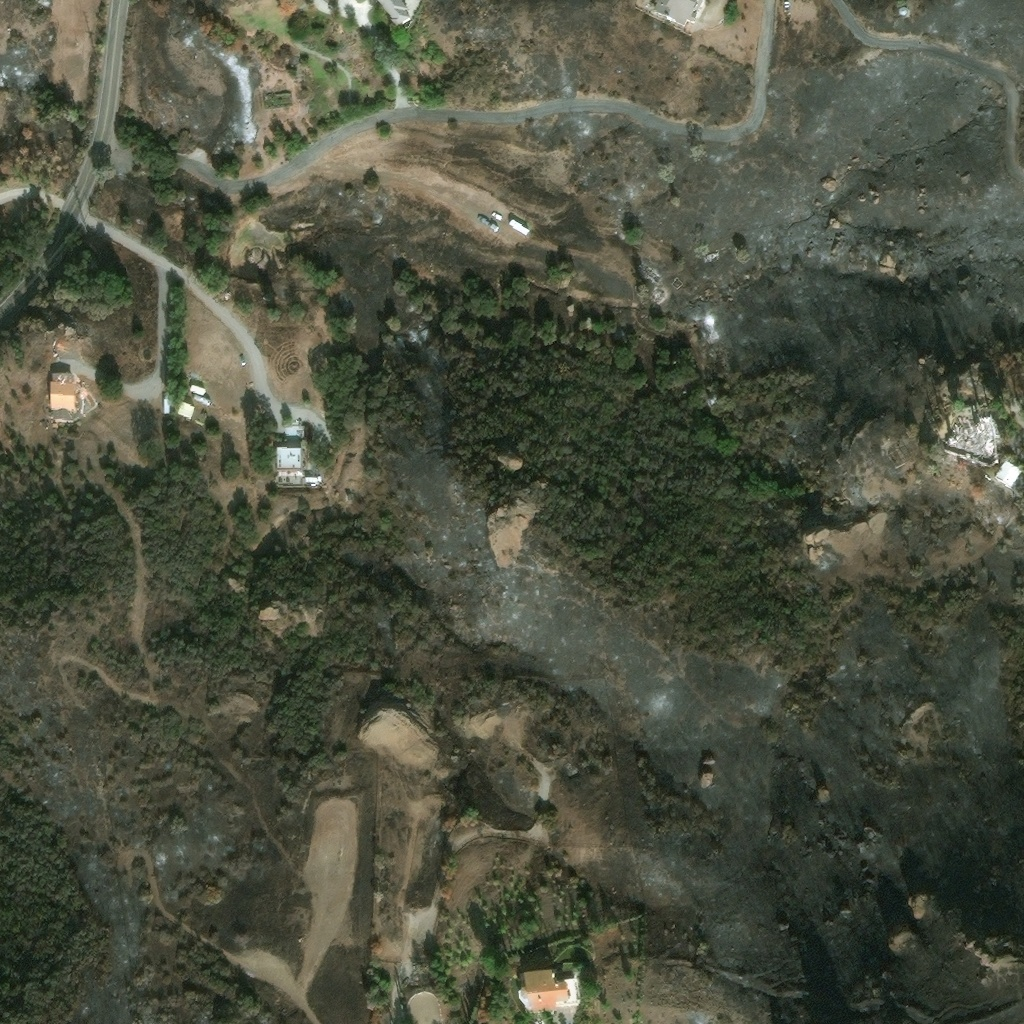0 no-damage: (519, 968, 582, 1013), (645, 0, 709, 34), (374, 0, 413, 32), (276, 446, 304, 485), (994, 460, 1023, 489), (177, 400, 196, 419), (305, 475, 323, 486), (163, 398, 171, 413)
1 minor-damage: (51, 381, 75, 407), (51, 406, 75, 421), (51, 372, 75, 383)
3 destroyed: (942, 413, 1001, 470), (650, 287, 667, 306), (714, 348, 724, 358)
